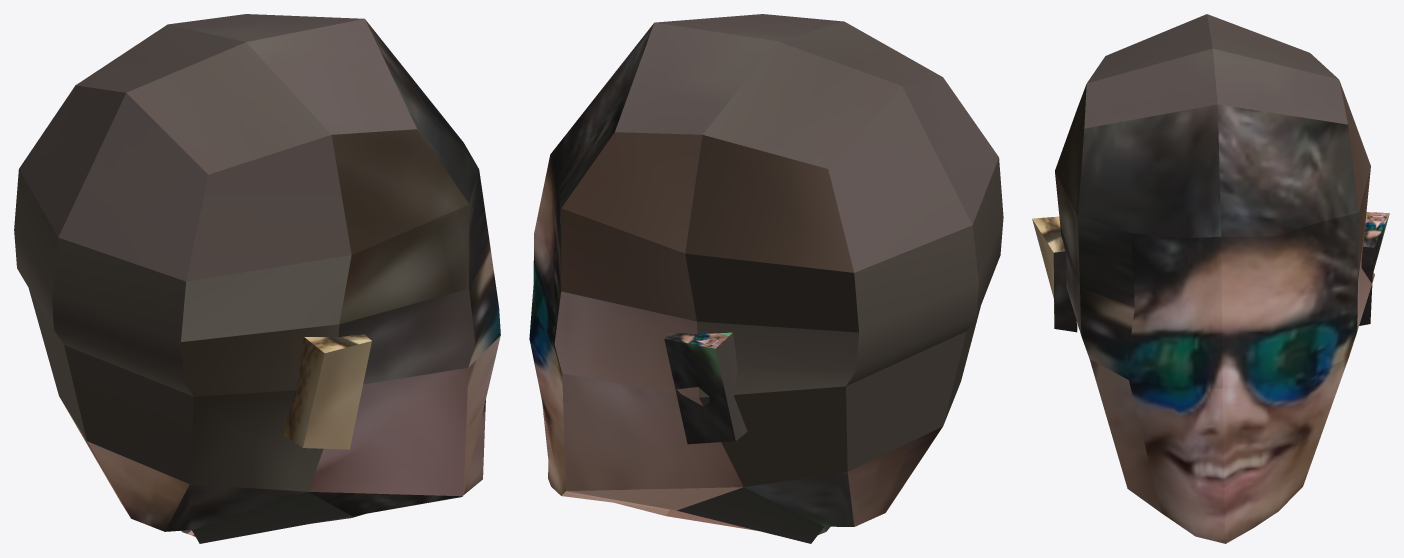
The model's file is sks.fbx.
3 renders of one model, left to right at view 1: azimuth 30°, elevation 25°; view 2: azimuth 150°, elevation 25°; view 3: azimuth 270°, elevation 25°, orthographic. The views are drawn at different scales.
Parts seen in each view (by area): view 1: Cylinder; view 2: Cylinder; view 3: Cylinder.
Boxes of the visible parts, x1,y1,x2,y2 form: Cylinder: [14, 14, 500, 543]; Cylinder: [529, 14, 1003, 543]; Cylinder: [1032, 14, 1389, 543].
Bounding box in the file's own units: 91.45 × 102 × 80.57.
Materials: 1 (1 with a texture image).
